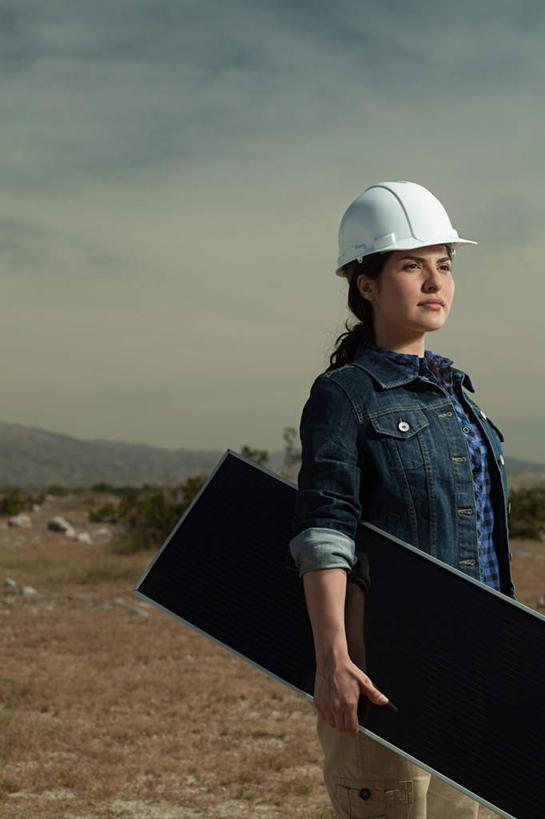helmet: (335, 178, 477, 278)
